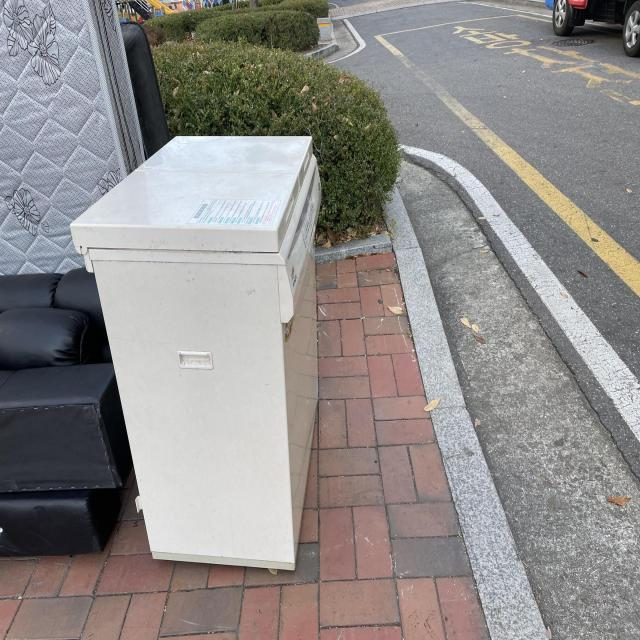refrigerator: (68, 130, 326, 575)
